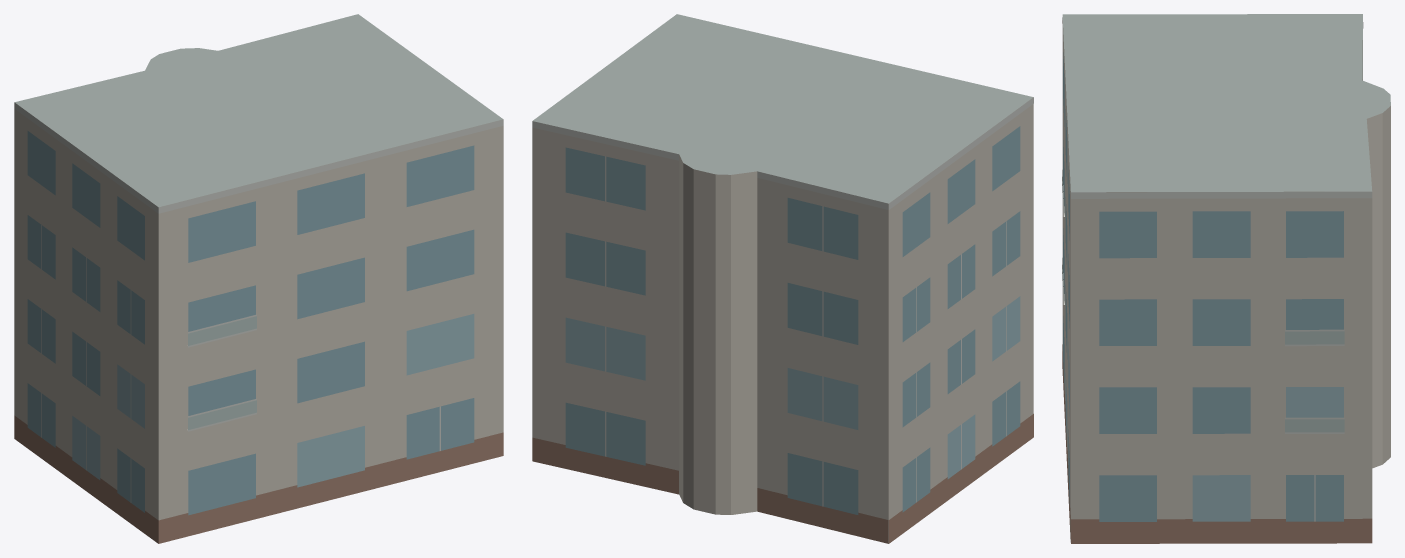
Rendered from survey-upis-32975127.glb.
The picture shows the model from 3 angles, left to right: view 1: azimuth 30°, elevation 25°; view 2: azimuth 150°, elevation 25°; view 3: azimuth 270°, elevation 25°; orthographic projection. The views are drawn at different scales.
Visible parts, largest first — view 1: survey-upis-32975127.tmp; view 2: survey-upis-32975127.tmp; view 3: survey-upis-32975127.tmp.
Part boxes in pixels (bbox=[...]): survey-upis-32975127.tmp: bbox=[14, 14, 503, 543]; survey-upis-32975127.tmp: bbox=[532, 14, 1033, 543]; survey-upis-32975127.tmp: bbox=[1062, 14, 1390, 543].
Size of the model in its own units: 13.92 by 12.8 by 10.85.
